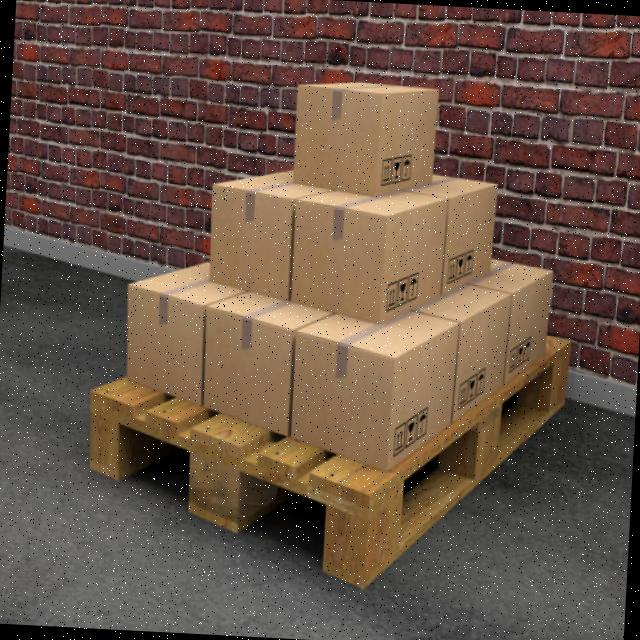Wooden-Pallets: (82, 336, 576, 590)
